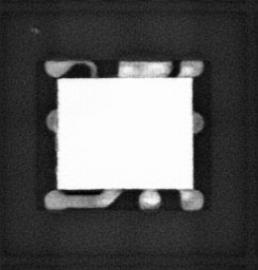DIE_INK: (29, 24, 39, 35)
